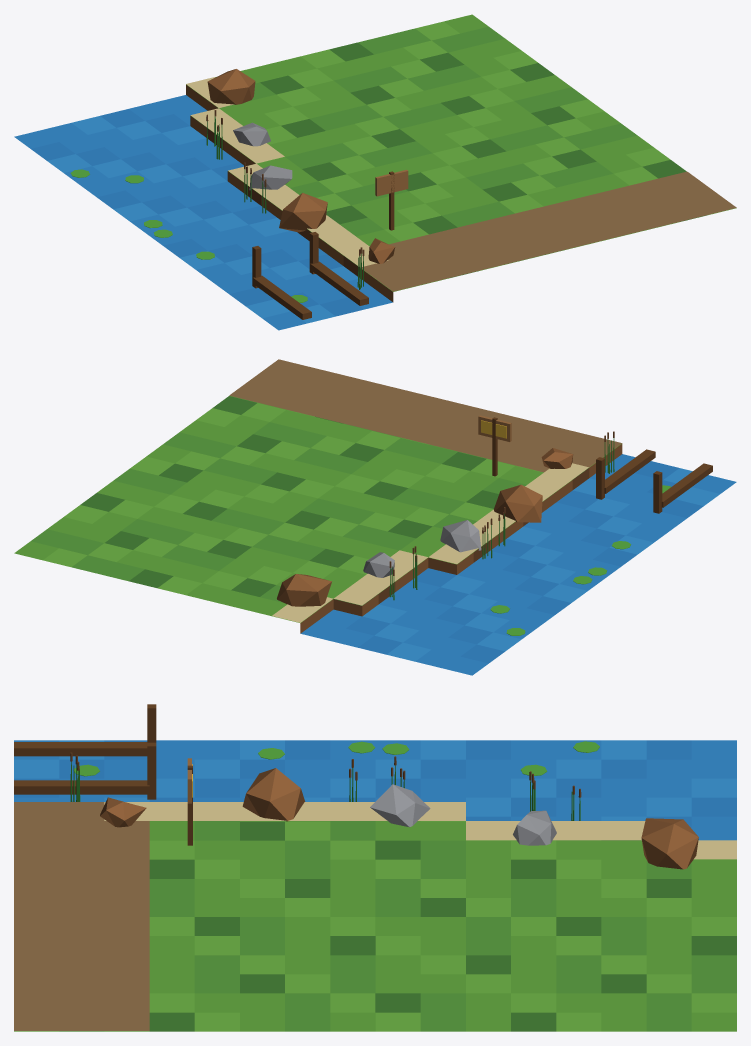
File: chunk_4_11.glb
The picture shows the model from 3 angles, top to bottom: view 1: azimuth 30°, elevation 25°; view 2: azimuth 150°, elevation 25°; view 3: azimuth 270°, elevation 25°; orthographic projection. The views are drawn at different scales.
Parts seen in each view (by area): view 1: chunk_4_11; view 2: chunk_4_11; view 3: chunk_4_11.
Boxes of the visible parts, x1,y1,x2,y2 form: chunk_4_11: (14,14,736,330); chunk_4_11: (14,359,736,675); chunk_4_11: (14,704,736,1031).
Size of the model in its own units: 16 by 2.35 by 16.
